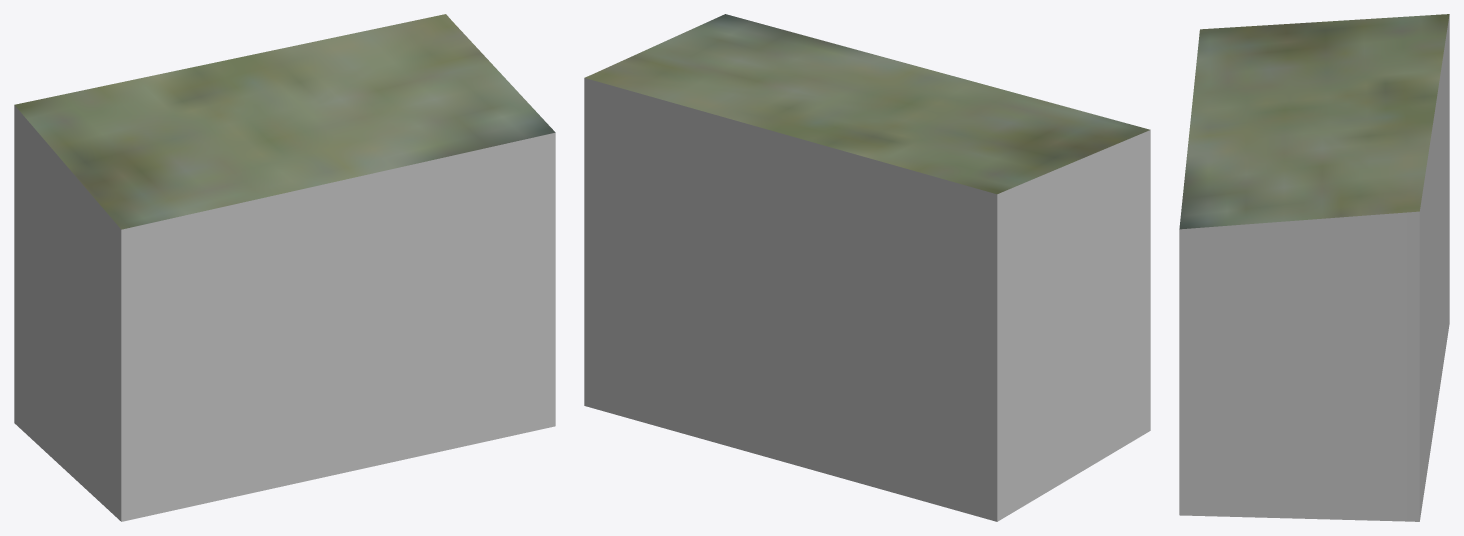
File: DEBW_0010007Tx7E.gltf
The picture shows the model from 3 angles, left to right: view 1: azimuth 30°, elevation 25°; view 2: azimuth 150°, elevation 25°; view 3: azimuth 270°, elevation 25°; orthographic projection. The views are drawn at different scales.
Visible parts, largest first — view 1: Z_UP; view 2: Z_UP; view 3: Z_UP.
Boxes of the visible parts, x1,y1,x2,y2 form: Z_UP: (14, 14, 555, 521); Z_UP: (584, 14, 1150, 521); Z_UP: (1179, 14, 1449, 521).
Bounding box in the file's own units: 4.79 × 3.33 × 2.63.
Materials: 2 (1 with a texture image).
